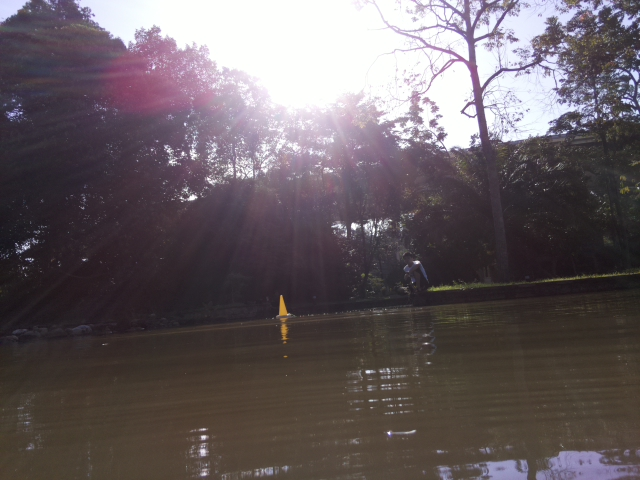checkpoint: (274, 291, 291, 318)
